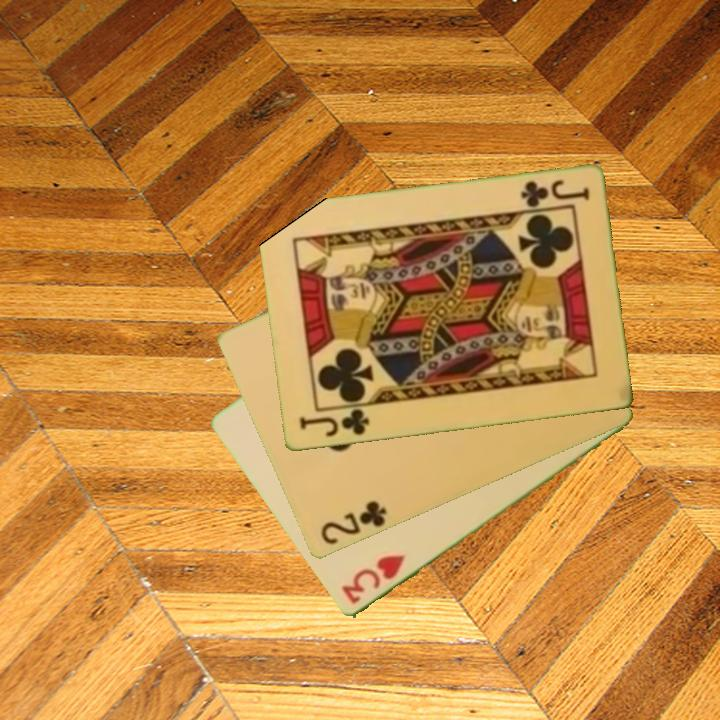2c: (317, 497, 390, 548)
3h: (338, 551, 408, 608)
Jc: (295, 406, 372, 440), (517, 177, 592, 211)
